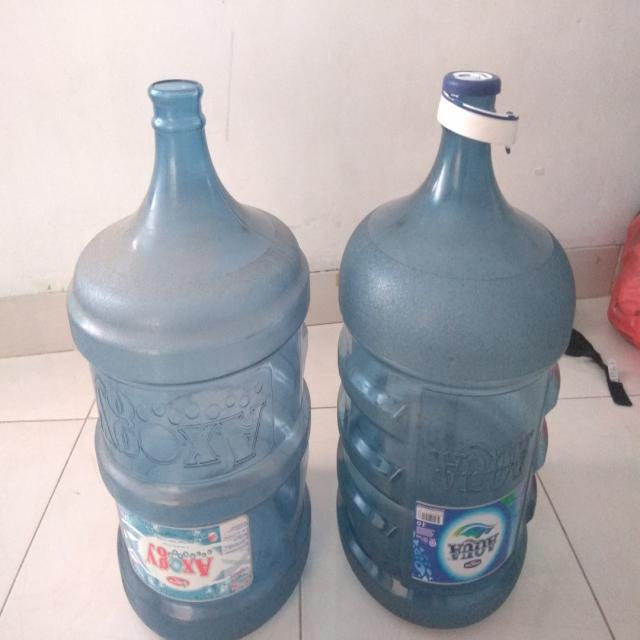Galon: (64, 77, 313, 638), (338, 54, 575, 634)
